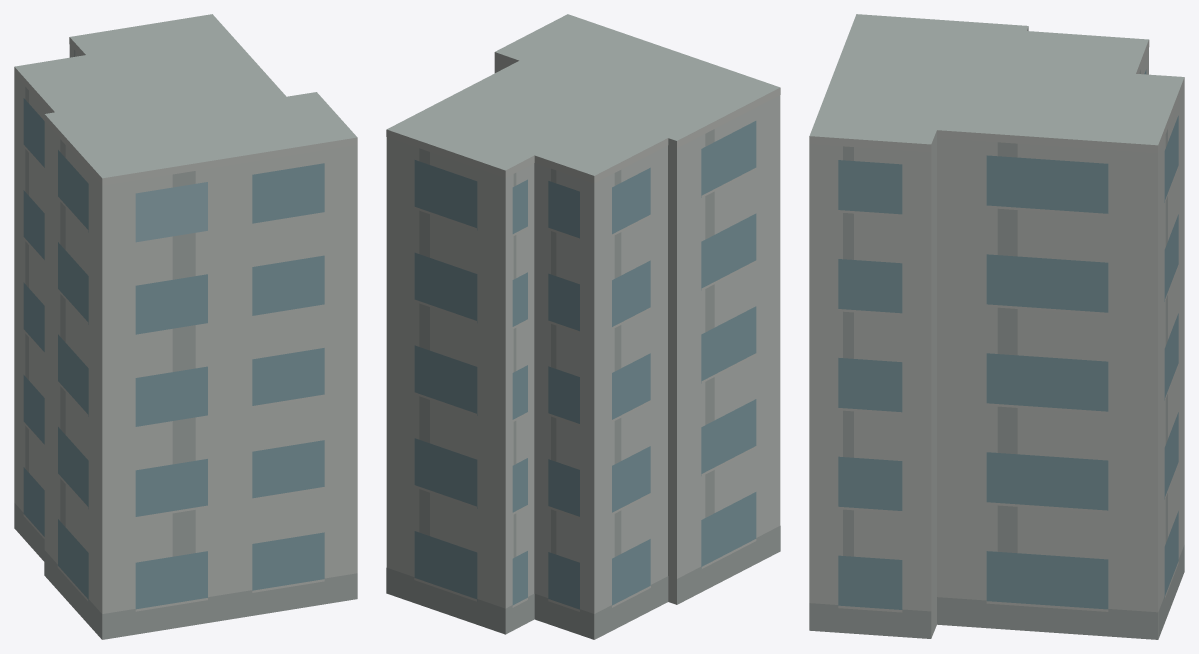
The model's file is survey-upis-33009389.glb.
3 renders of one model, left to right at view 1: azimuth 30°, elevation 25°; view 2: azimuth 150°, elevation 25°; view 3: azimuth 270°, elevation 25°, orthographic. The views are drawn at different scales.
Parts seen in each view (by area): view 1: survey-upis-33009389.tmp; view 2: survey-upis-33009389.tmp; view 3: survey-upis-33009389.tmp.
Boxes of the visible parts, x1,y1,x2,y2 form: survey-upis-33009389.tmp: [14, 14, 357, 639]; survey-upis-33009389.tmp: [386, 14, 780, 639]; survey-upis-33009389.tmp: [809, 14, 1184, 639].
Bounding box in the file's own units: 8.61 × 15.1 × 10.39.
